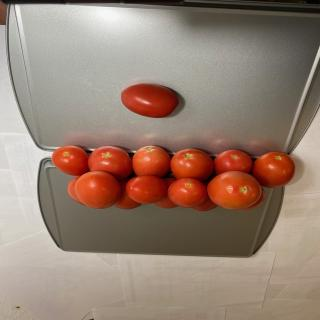Chilli: (51, 145, 296, 211)
Tomato: (207, 171, 262, 209), (121, 83, 179, 118), (75, 171, 121, 209), (252, 152, 296, 188), (88, 146, 132, 180), (170, 148, 214, 181), (132, 145, 171, 177), (167, 178, 208, 208), (126, 175, 168, 204), (51, 145, 89, 176), (214, 149, 252, 175), (67, 176, 84, 205)
